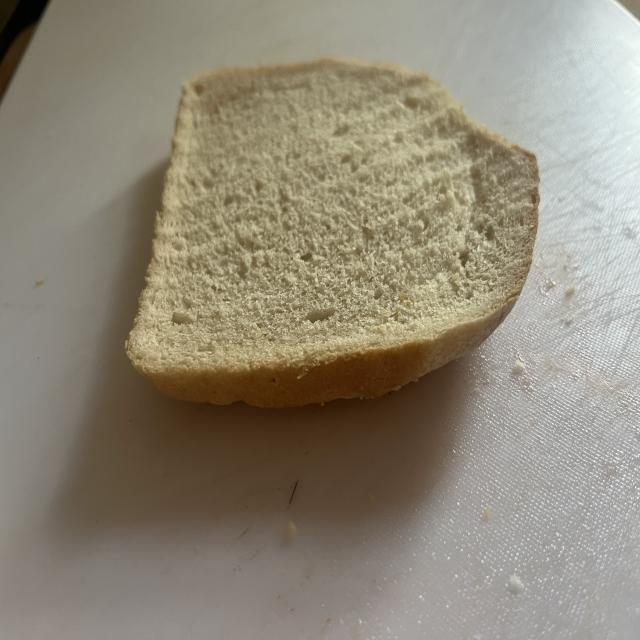sliced_bread: (126, 59, 539, 407)
